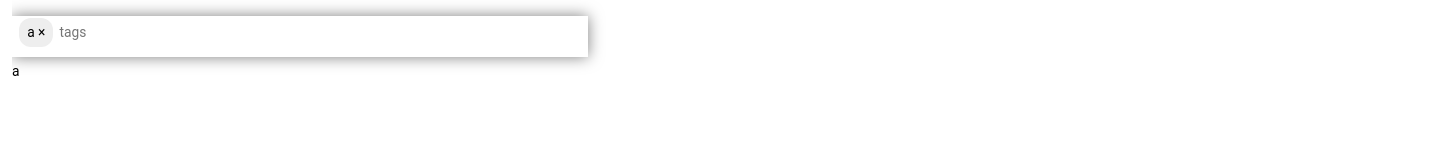
Test: Combobox › creates a tag while under maxSelected
The width and height of the screenshot is (1452, 160).
Type "b" into the field with placeholder "tags" at (323, 32), box [58,16,588,49]
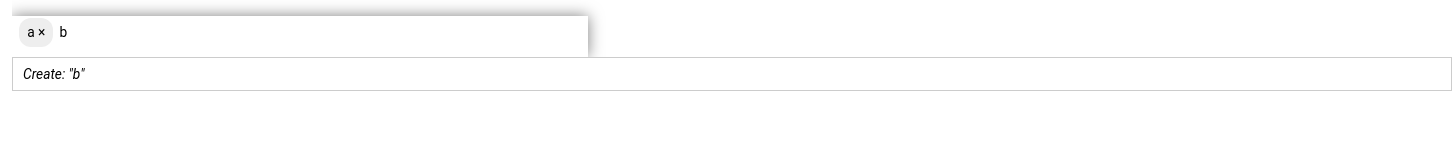
Press Enter in the field with placeholder "tags", box [58,16,588,49]
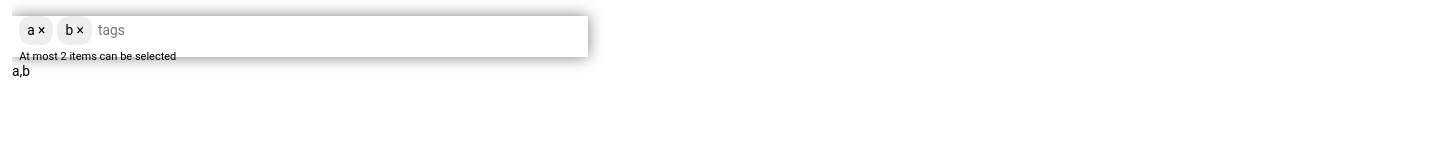
Expected: the text "a,b" is shown, [12,61,30,81]
